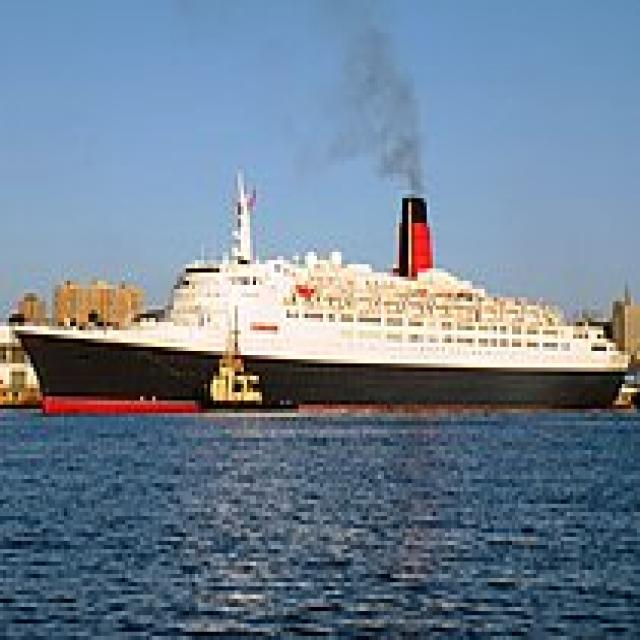Cruise: (6, 161, 628, 417)
